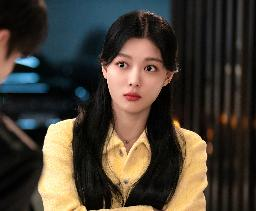face: (110, 42, 164, 110)
